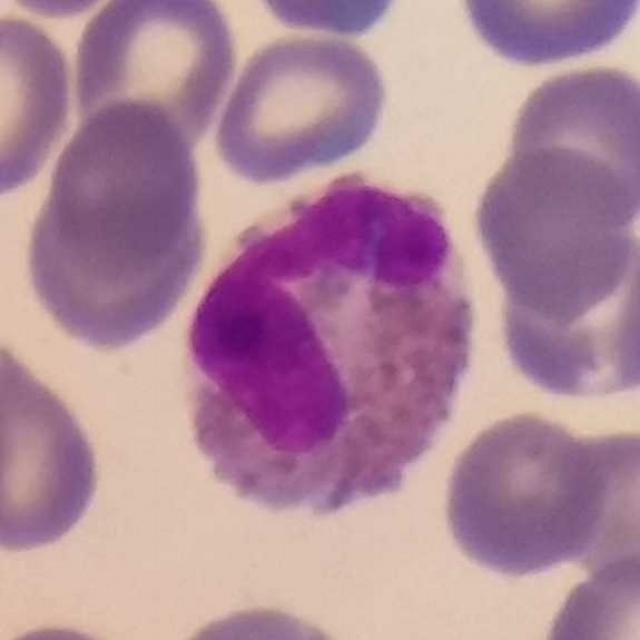eosino: (184, 172, 478, 518)
